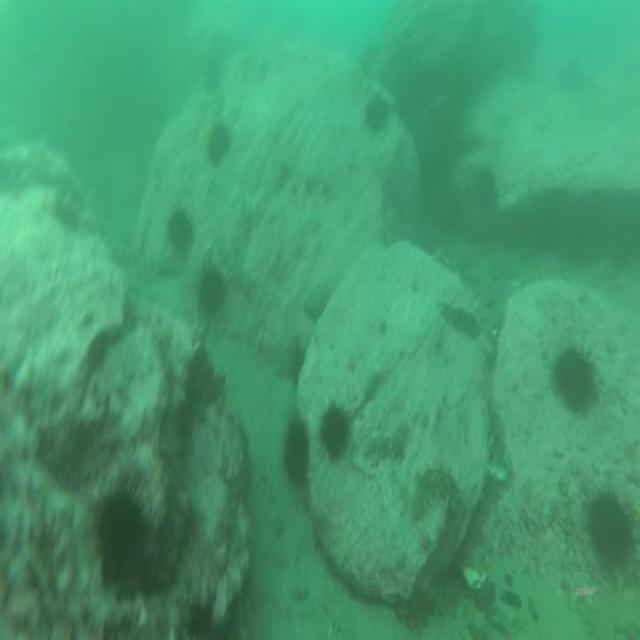echinus: (588, 494, 630, 566), (100, 496, 140, 564), (554, 348, 594, 412), (283, 420, 310, 482), (165, 207, 193, 253), (321, 406, 347, 455), (198, 270, 224, 313), (209, 130, 229, 168), (367, 96, 385, 126)
holothurian: (412, 469, 460, 515), (443, 300, 477, 344), (362, 428, 404, 463)
